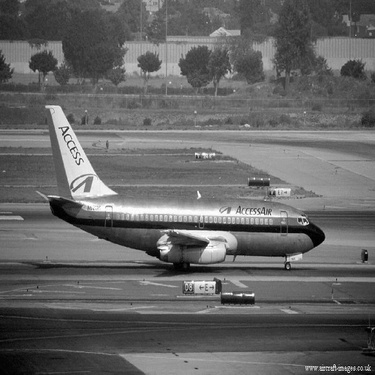airplane: (29, 96, 333, 300)
